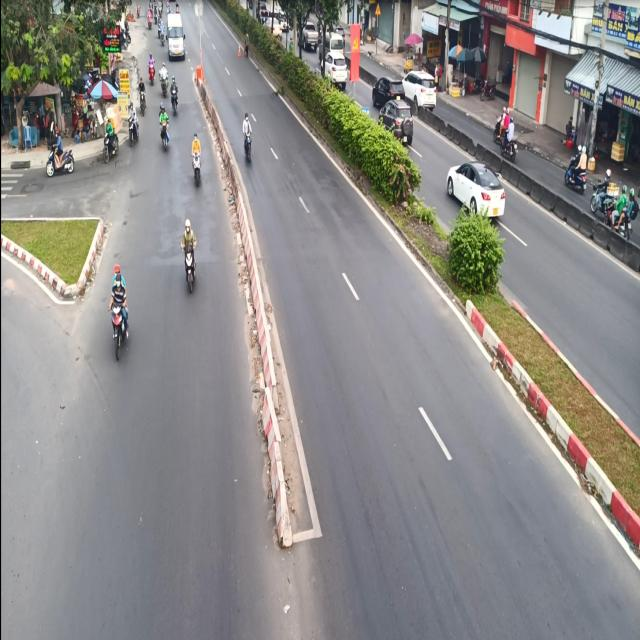car: (165, 12, 184, 64)
motor: (106, 258, 128, 356), (174, 214, 194, 298), (188, 122, 204, 188), (155, 106, 173, 149), (240, 108, 252, 166)
